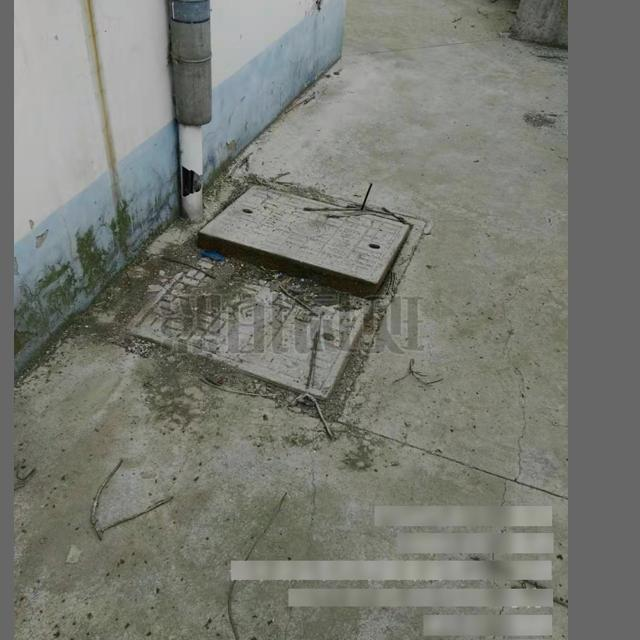uncovered: (140, 206, 420, 357)
